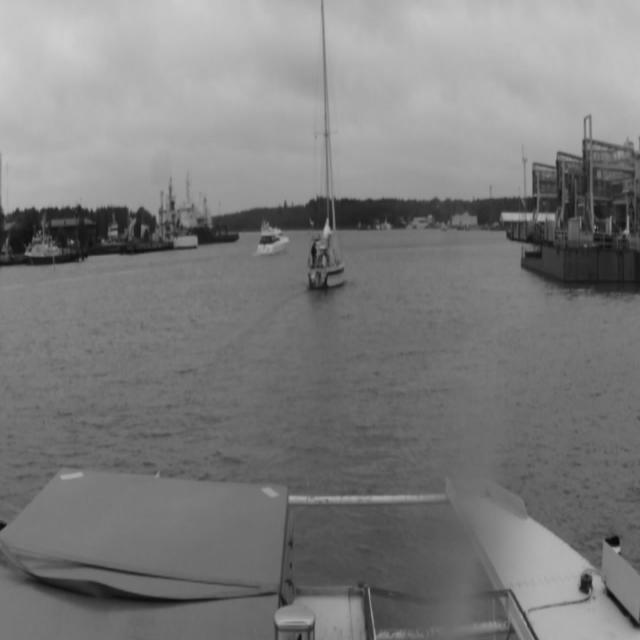ship: (308, 8, 344, 288), (153, 177, 240, 243), (20, 222, 80, 262), (258, 222, 288, 254)
